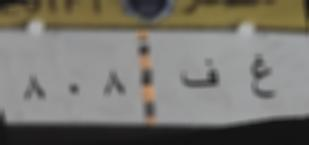0: (63, 76, 82, 106)
8: (97, 66, 130, 104), (21, 69, 49, 110)
faa: (176, 57, 223, 99)
ghayn: (242, 49, 279, 106)
